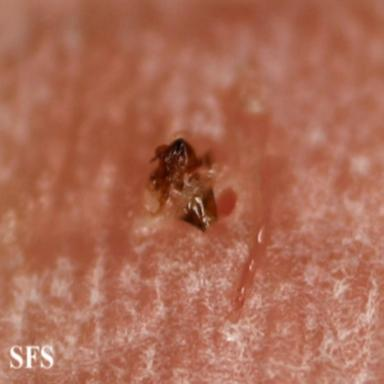Tungiasis: (142, 139, 243, 230)
